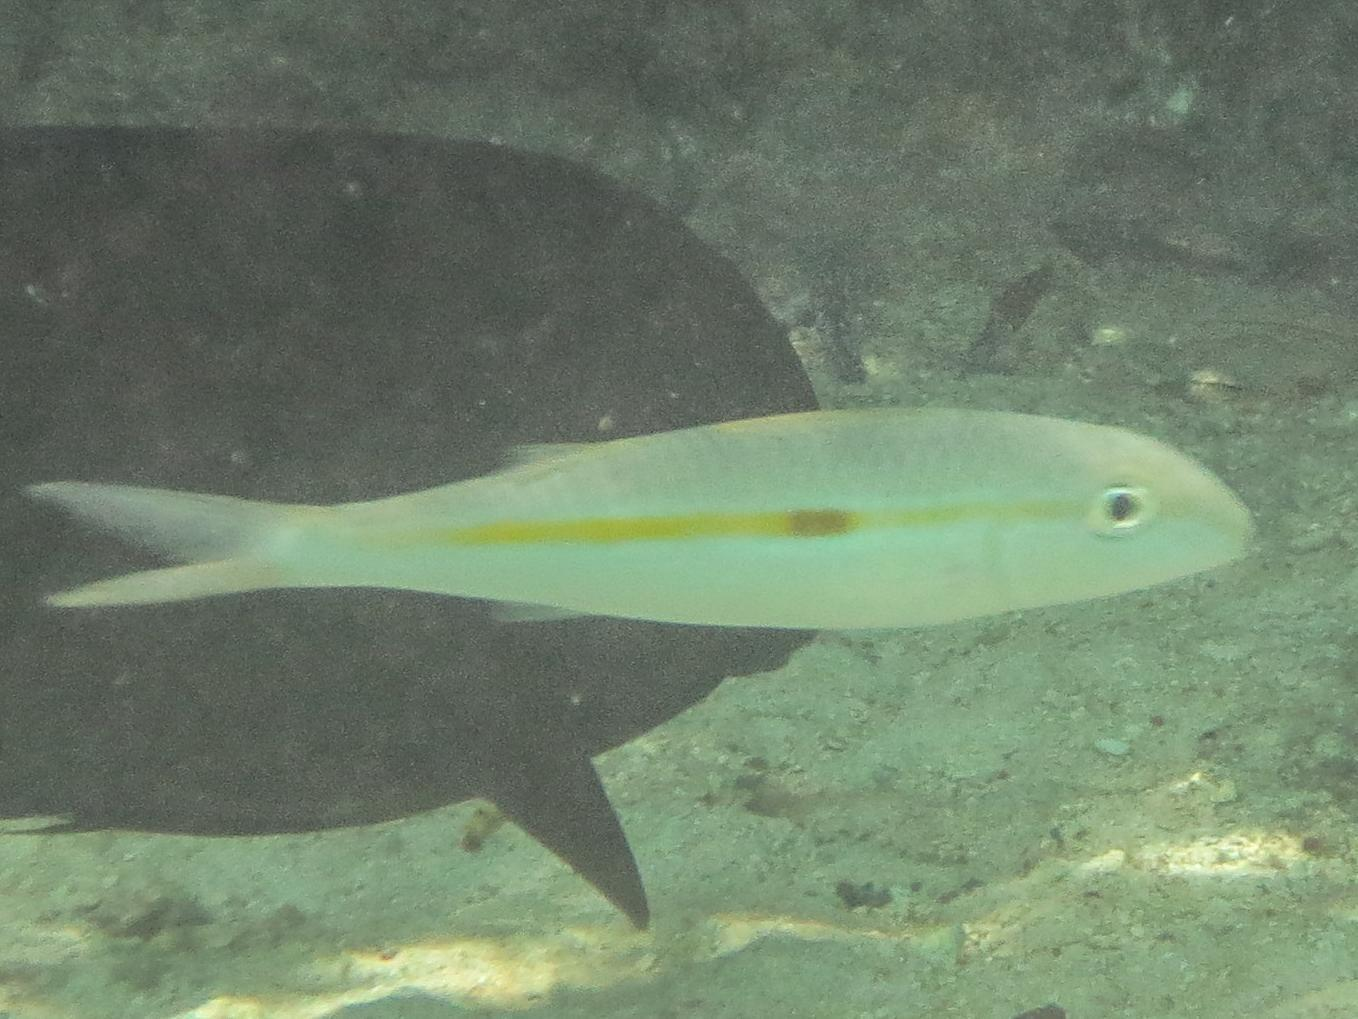Fish: (6, 262, 1300, 712)
